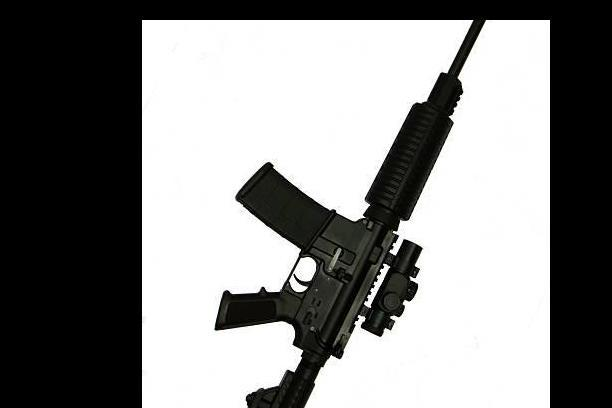larga: (213, 21, 486, 408)
